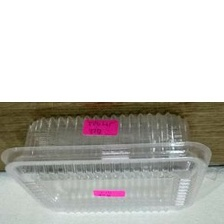plastic_box: (0, 104, 217, 219)
